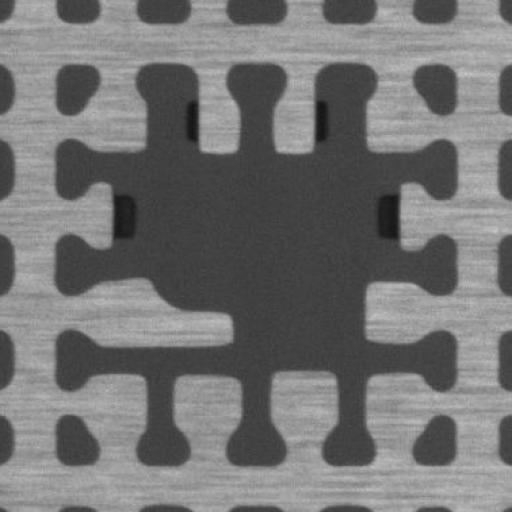NO_DIE: (50, 57, 454, 463)
